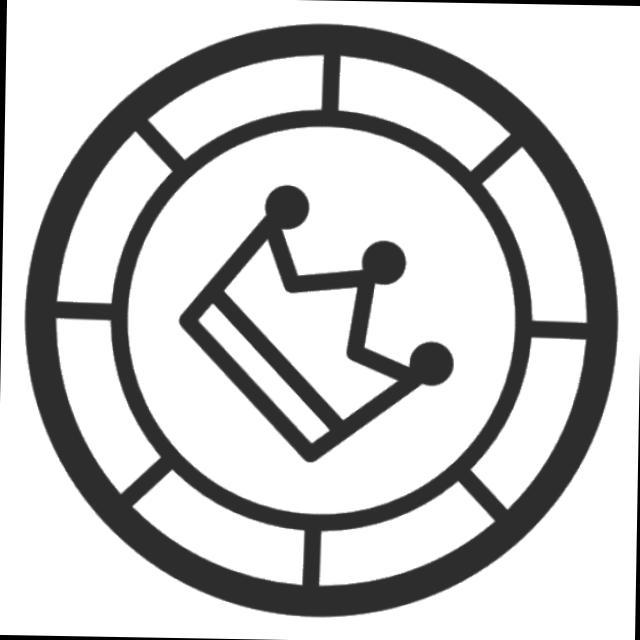coin: (6, 10, 635, 633)
